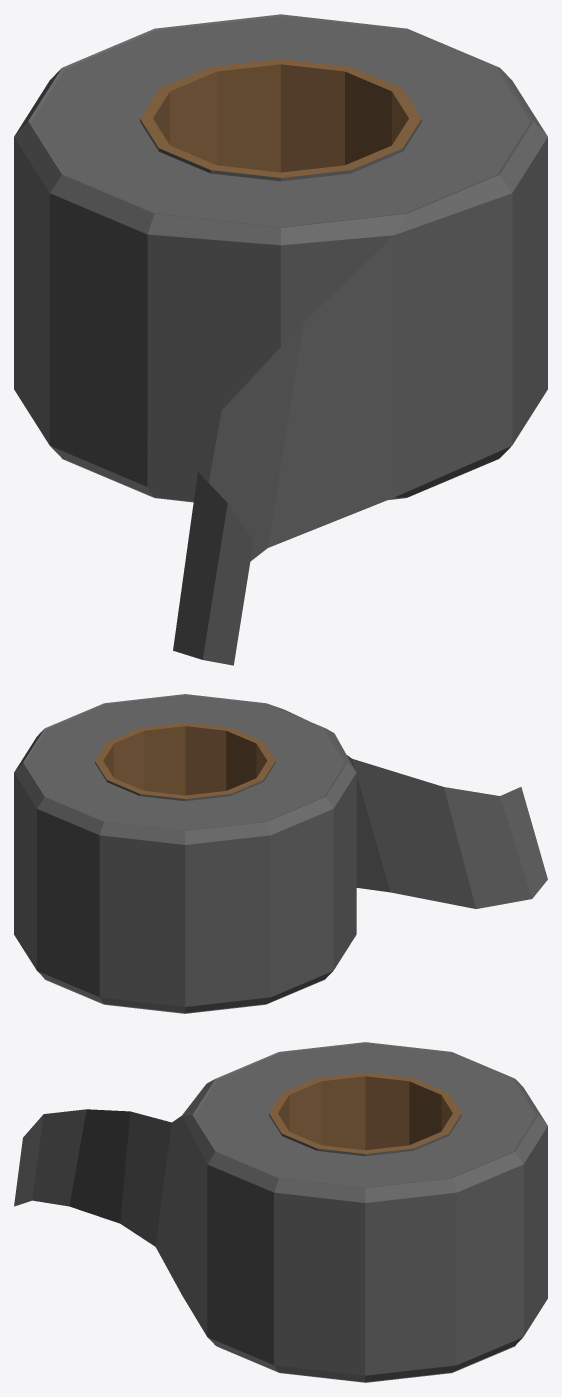
Rendered from ductTape.glb.
3 views of the same model, one above another, from view 1: azimuth 30°, elevation 25°; view 2: azimuth 150°, elevation 25°; view 3: azimuth 270°, elevation 25° (orthographic). The views are drawn at different scales.
Visible parts, largest first — view 1: Duct_Tape; view 2: Duct_Tape; view 3: Duct_Tape.
Part boxes in pixels (x1,y1,x2,y2): Duct_Tape: [14, 14, 547, 665]; Duct_Tape: [14, 694, 547, 1013]; Duct_Tape: [14, 1042, 547, 1382].
Bounding box in the file's own units: 0.4208 × 0.2138 × 0.5122.
